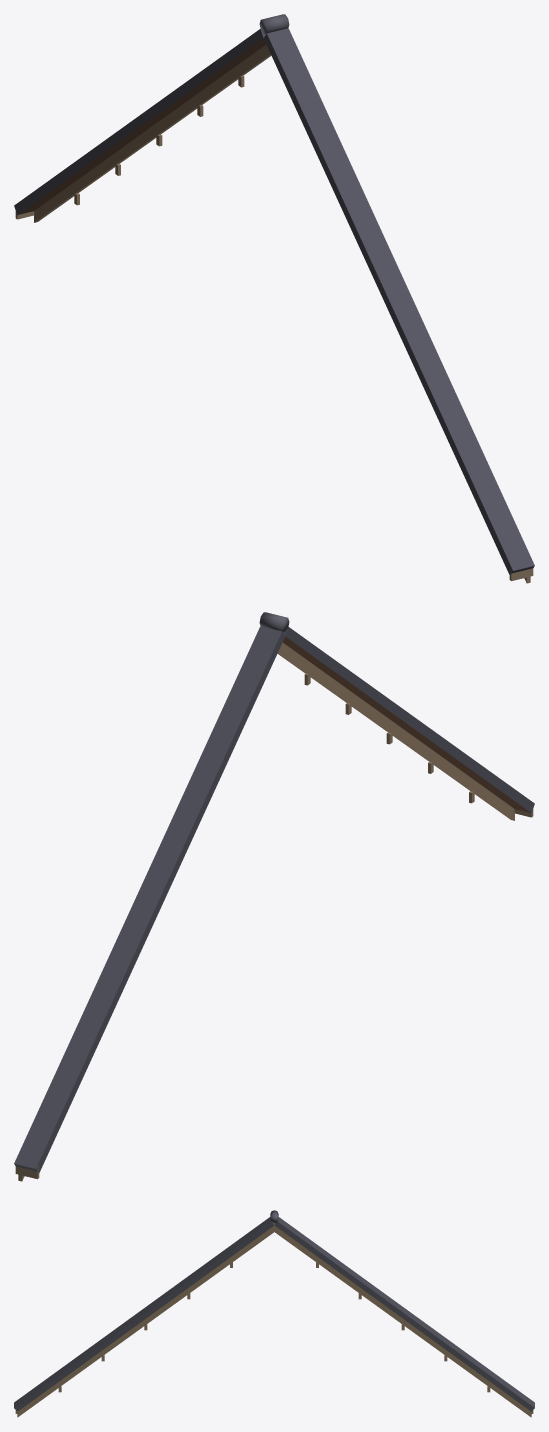
Rendered from kit_clapboard_slate_w8_end.glb.
3 renders of one model, top to bottom at view 1: azimuth 30°, elevation 25°; view 2: azimuth 150°, elevation 25°; view 3: azimuth 270°, elevation 25°, orthographic. The views are drawn at different scales.
Visible parts, largest first — view 1: kit_clapboard_slate_w8_end; view 2: kit_clapboard_slate_w8_end; view 3: kit_clapboard_slate_w8_end.
Boxes of the visible parts, x1,y1,x2,y2 form: kit_clapboard_slate_w8_end: (14, 14, 534, 583); kit_clapboard_slate_w8_end: (14, 612, 534, 1181); kit_clapboard_slate_w8_end: (14, 1210, 534, 1417).
Bounding box in the file's own units: 0.22 × 3.73 × 8.71.
